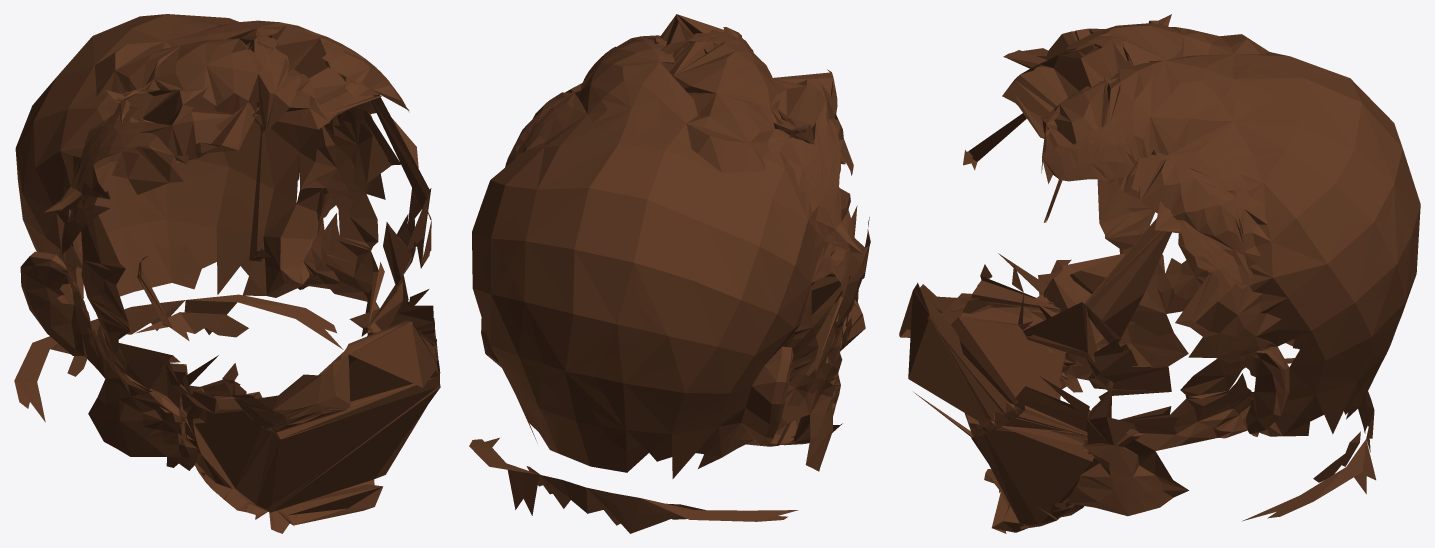
The model's file is kopf.haar.v003.glb.
3 views of the same model, side by side, from view 1: azimuth 30°, elevation 25°; view 2: azimuth 150°, elevation 25°; view 3: azimuth 270°, elevation 25° (orthographic). The views are drawn at different scales.
Parts seen in each view (by area): view 1: kopf.haar.v003.001; view 2: kopf.haar.v003.001; view 3: kopf.haar.v003.001.
Part boxes in pixels (bbox=[...]): kopf.haar.v003.001: bbox=[14, 14, 440, 533]; kopf.haar.v003.001: bbox=[469, 14, 870, 533]; kopf.haar.v003.001: bbox=[899, 14, 1420, 533].
Size of the model in its own units: 0.2752 by 0.3341 by 0.3295.
